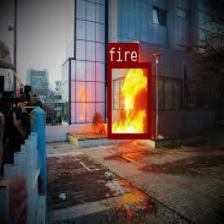fire: (107, 62, 151, 138)
